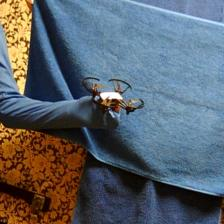drone: (79, 74, 147, 117)
